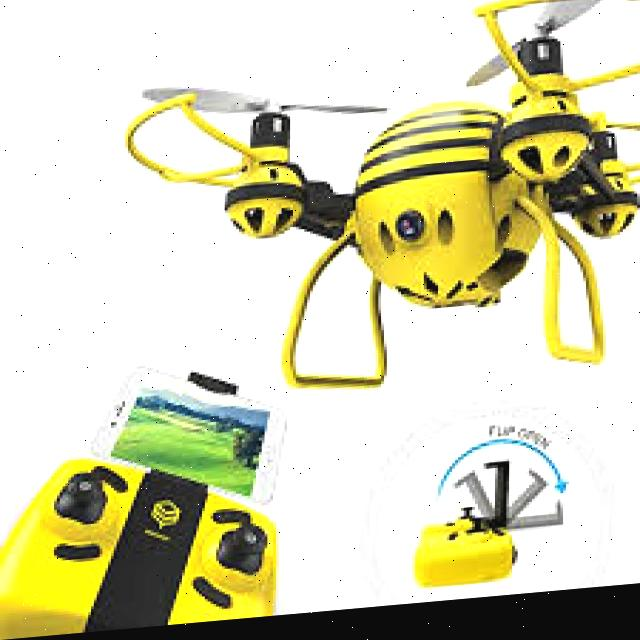drone: (114, 0, 640, 442)
